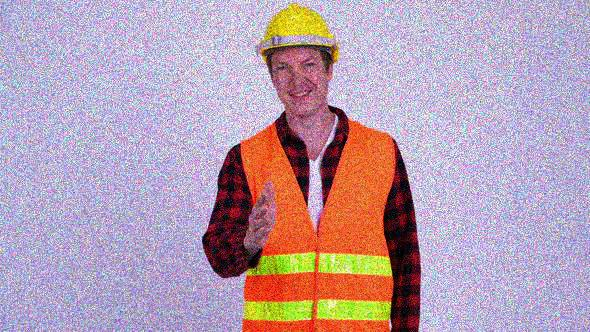helmet: (254, 6, 340, 117)
